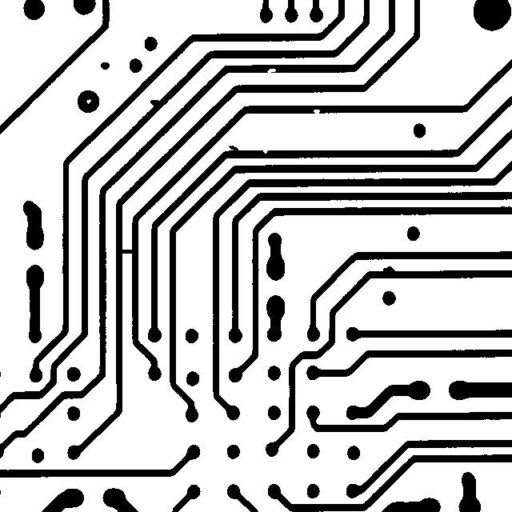copper: (93, 54, 117, 77)
mousebite: (259, 61, 282, 82), (306, 102, 327, 121), (255, 142, 275, 161)
pin-hole: (78, 91, 98, 111)
short: (114, 242, 141, 261)
spur: (375, 258, 402, 281), (142, 92, 166, 114), (221, 138, 246, 159)
